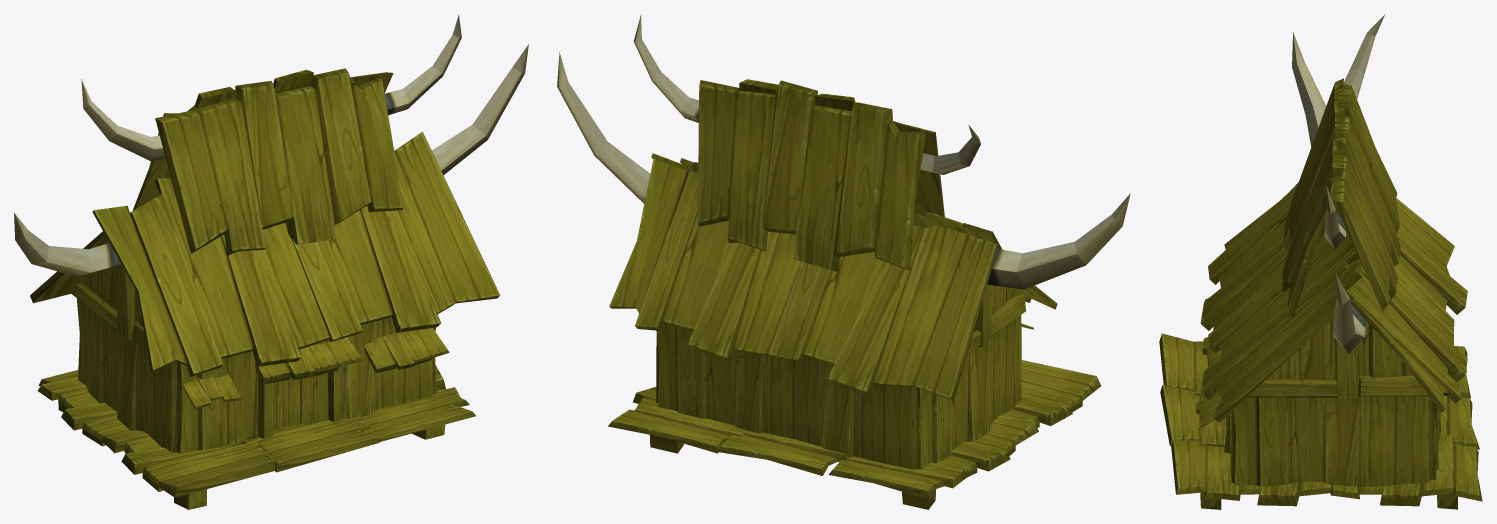
File: Cunluo_fangzi05.FBX
3 views of the same model, side by side, from view 1: azimuth 30°, elevation 25°; view 2: azimuth 150°, elevation 25°; view 3: azimuth 270°, elevation 25° (orthographic). The views are drawn at different scales.
Parts seen in each view (by area): view 1: Cunluo_fangzi05; view 2: Cunluo_fangzi05; view 3: Cunluo_fangzi05.
Boxes of the visible parts, bbox=[...] form: Cunluo_fangzi05: bbox=[14, 14, 528, 509]; Cunluo_fangzi05: bbox=[557, 14, 1130, 509]; Cunluo_fangzi05: bbox=[1159, 15, 1482, 509].
Bounding box in the file's own units: 943 × 600 × 486.
